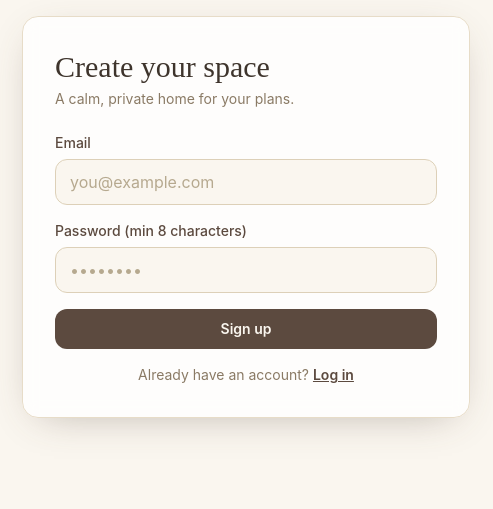
Test: Signup flow › rejects short passwords client-side
In the field labelled "Email": [246, 182] box [55, 159, 437, 205], type "a@b.co"
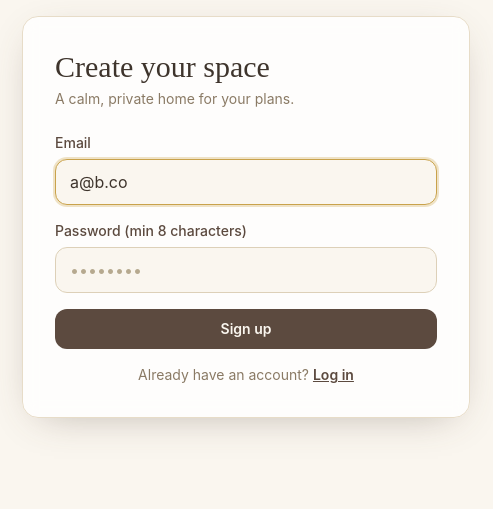
In the password field labelled "Password (min 8 characters)": [246, 270] box [55, 247, 437, 293], type "short"
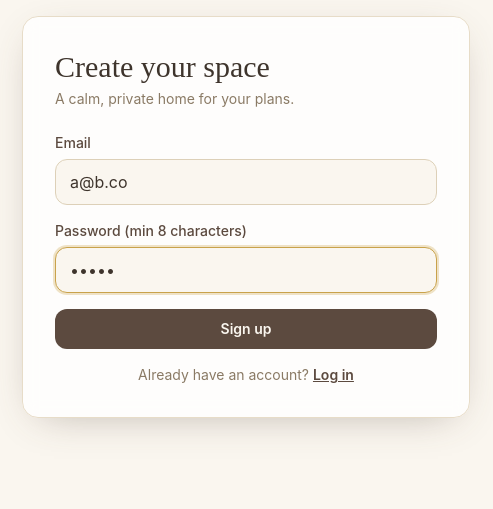
Click the button "Sign up": [246, 329] box [55, 309, 437, 349]
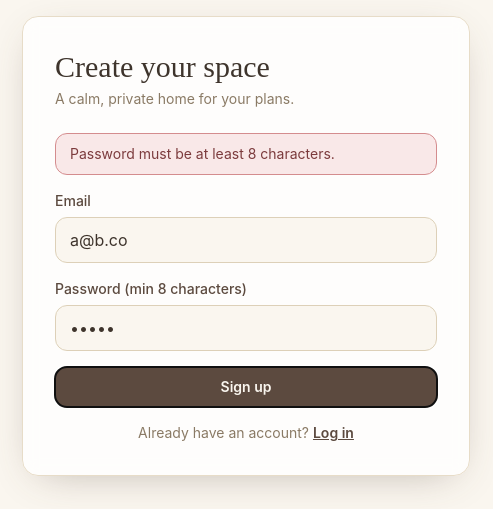
Result: the message shows "at least 8 characters" at [70, 145, 335, 162]
